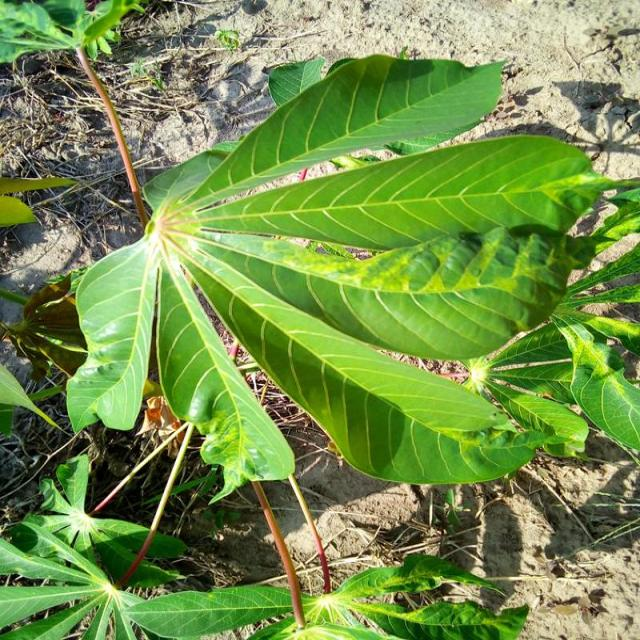cassava leaf: (67, 52, 638, 492), (142, 52, 506, 214)
